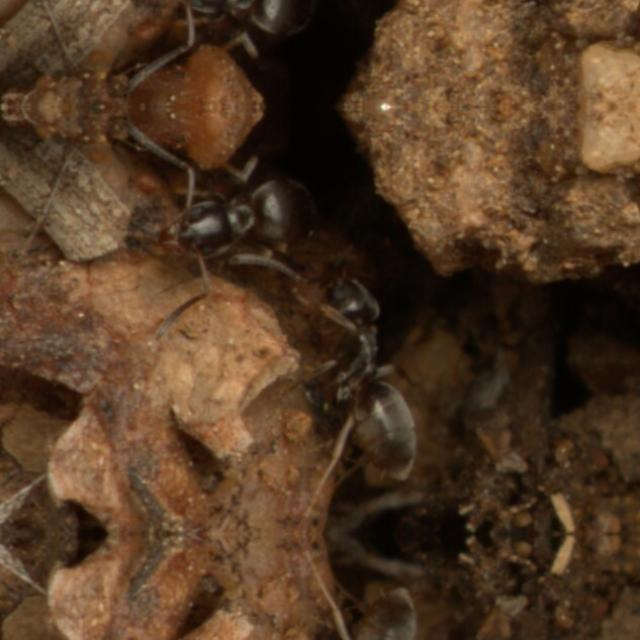Tapinoma: (116, 134, 438, 364), (273, 250, 465, 504), (115, 0, 438, 78), (273, 562, 465, 640)
